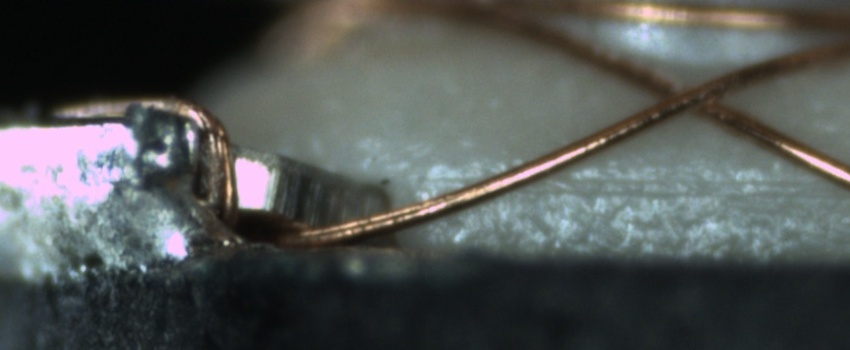CL: (644, 68, 739, 125)
DL: (417, 161, 850, 218)
TE: (57, 93, 254, 240)
